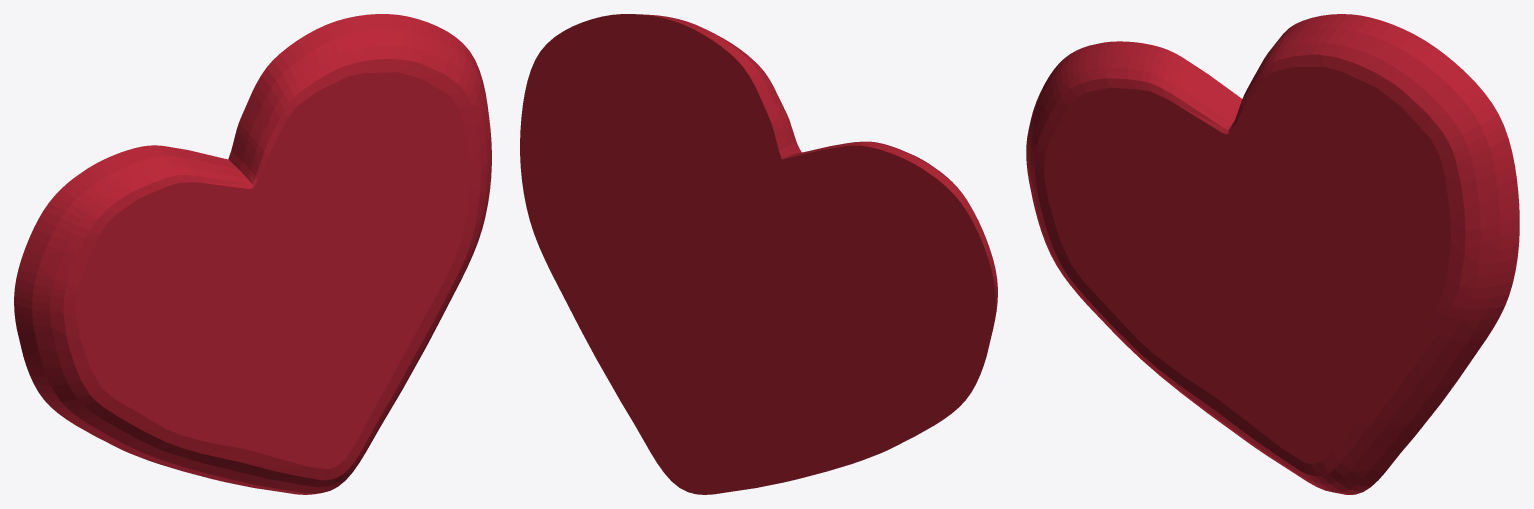
File: Heart.FBX
3 views of the same model, side by side, from view 1: azimuth 30°, elevation 25°; view 2: azimuth 150°, elevation 25°; view 3: azimuth 330°, elevation 25° (orthographic). The views are drawn at different scales.
Visible parts, largest first — view 1: Heart; view 2: Heart; view 3: Heart.
Boxes of the visible parts, <box> form: Heart: <box>14,14,491,494</box>; Heart: <box>520,14,997,494</box>; Heart: <box>1026,14,1519,494</box>.
Bounding box in the file's own units: 411 × 34.93 × 386.
